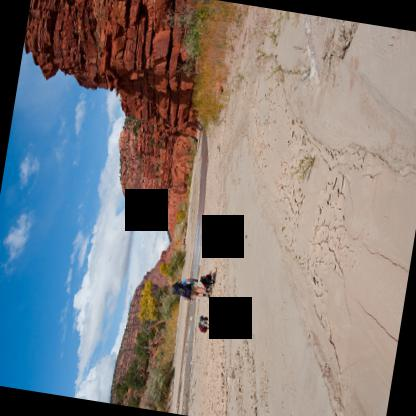backpack: (170, 279, 191, 299)
